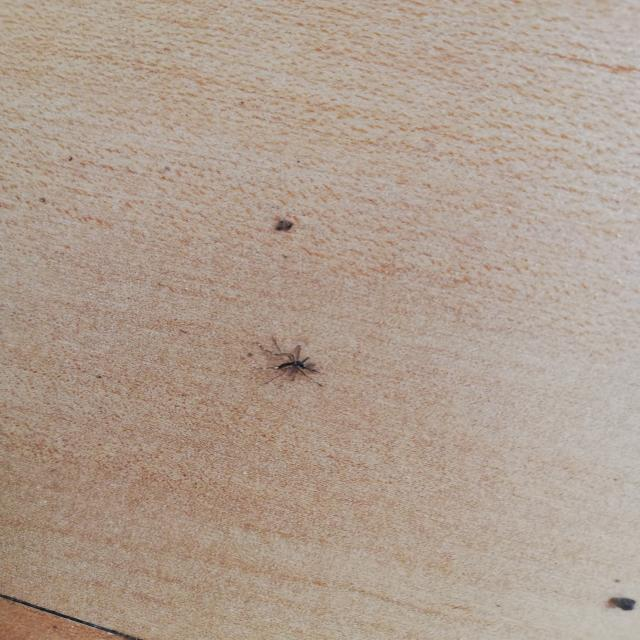albopictus: (248, 331, 328, 392)
